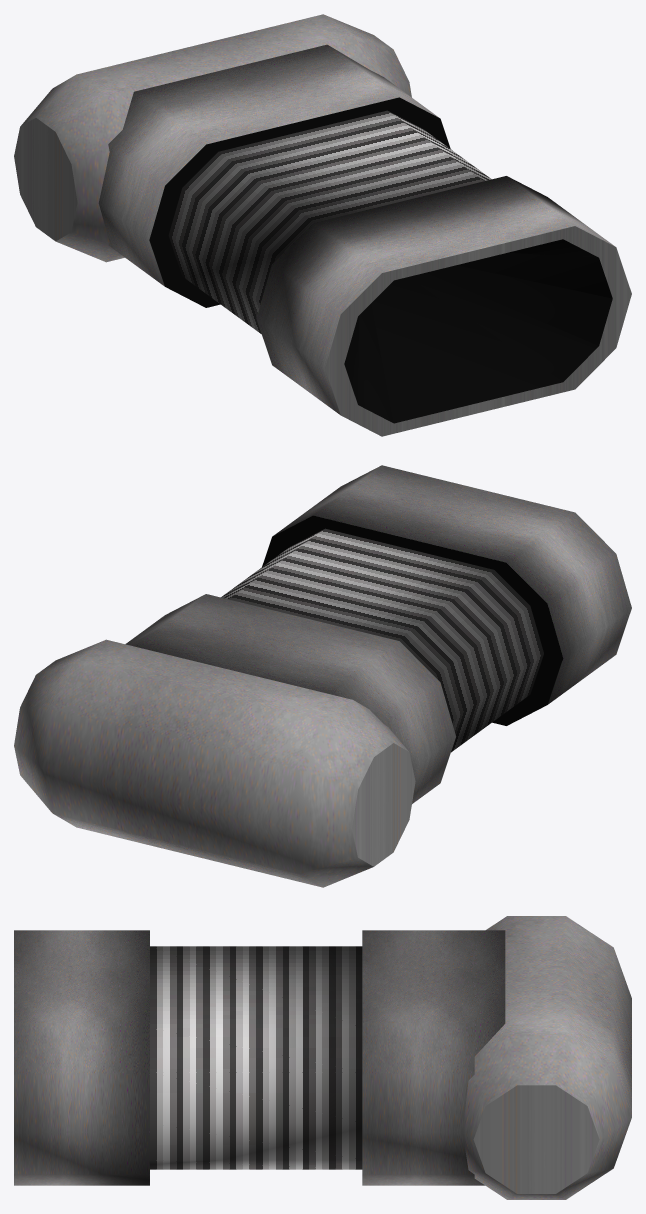
The model's file is GraserTurret.fbx.
The picture shows the model from 3 angles, top to bottom: view 1: azimuth 30°, elevation 25°; view 2: azimuth 150°, elevation 25°; view 3: azimuth 270°, elevation 25°; orthographic projection.
Visible parts, largest first — view 1: GraserTurret; view 2: GraserTurret; view 3: GraserTurret.
Boxes of the visible parts, x1=… form: GraserTurret: x1=14, y1=14, x2=631, y2=436; GraserTurret: x1=14, y1=465, x2=631, y2=887; GraserTurret: x1=14, y1=916, x2=631, y2=1199.
Size of the model in its own units: 65.83 by 30.91 by 105.
